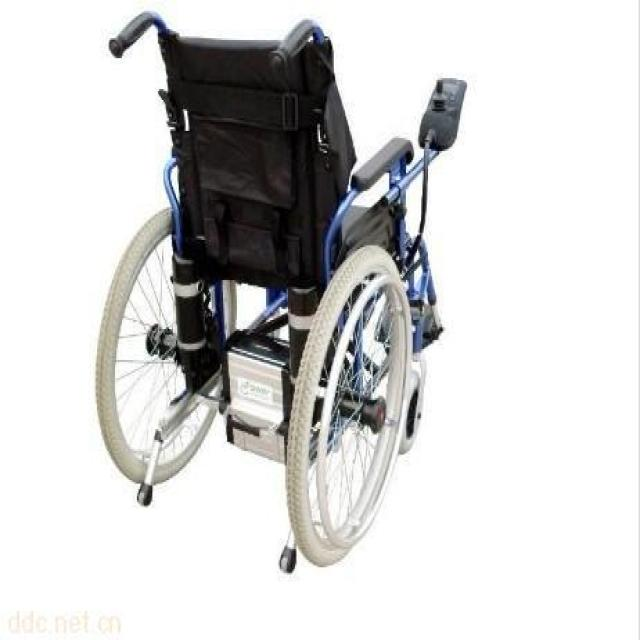wheelchairs: (91, 6, 475, 594)
